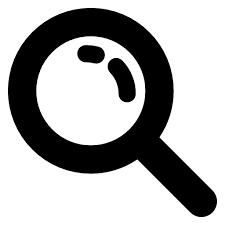searchIcon: (7, 8, 217, 216)
